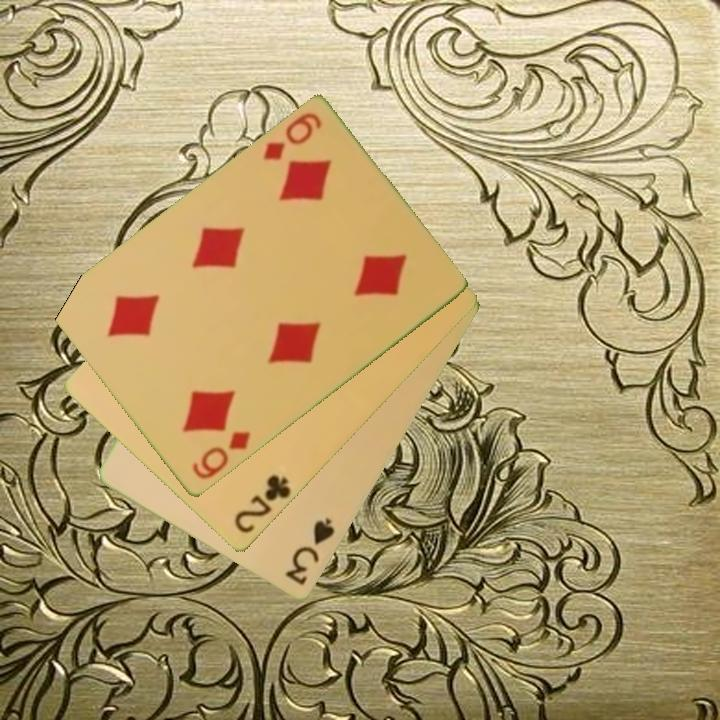2c: (230, 471, 294, 537)
3s: (282, 514, 338, 589)
6d: (188, 428, 254, 483), (259, 109, 325, 164)
